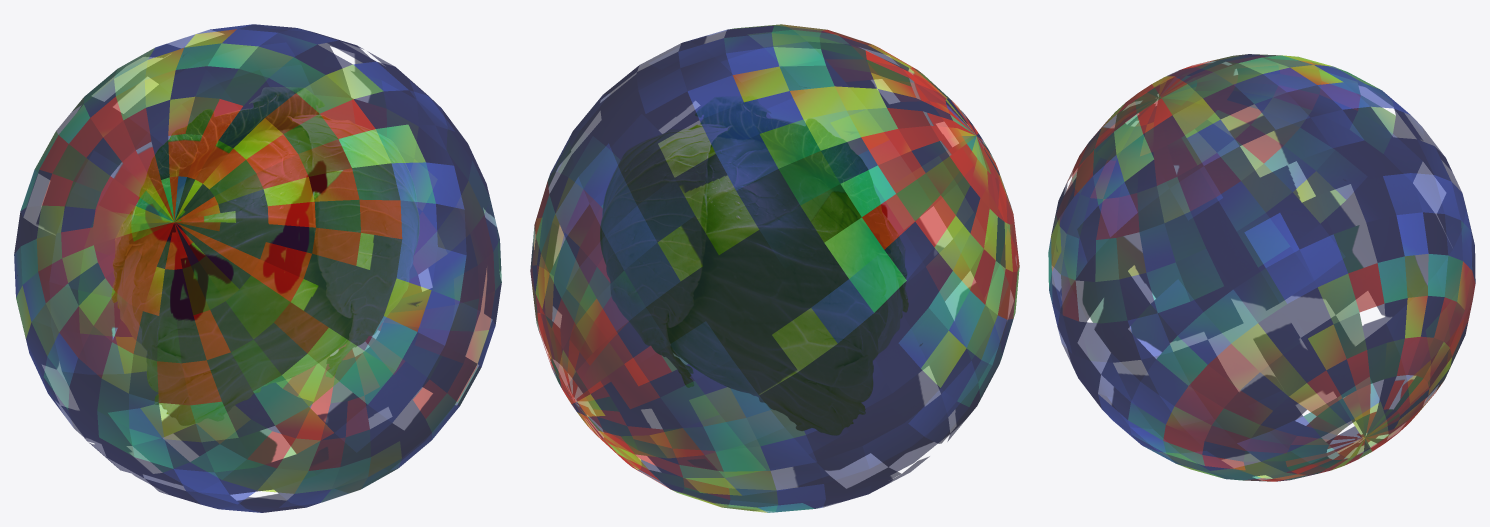
File: cabbage.glb
3 renders of one model, left to right at view 1: azimuth 30°, elevation 25°; view 2: azimuth 150°, elevation 25°; view 3: azimuth 270°, elevation 25°, orthographic. The views are drawn at different scales.
Visible parts, largest first — view 1: Sphere.010, Plane.002, Plane.001; view 2: Sphere.010, Plane.002; view 3: Sphere.010.
Boxes of the visible parts, x1,y1,x2,y2 form: Sphere.010: (14,24,501,512); Plane.002: (111,87,419,425); Plane.001: (145,161,327,320); Sphere.010: (530,24,1019,512); Plane.002: (600,96,908,435); Sphere.010: (1048,54,1475,481).
Bounding box in the file's own units: 6.41 × 6.42 × 6.4.
3 materials, 3 textured.
